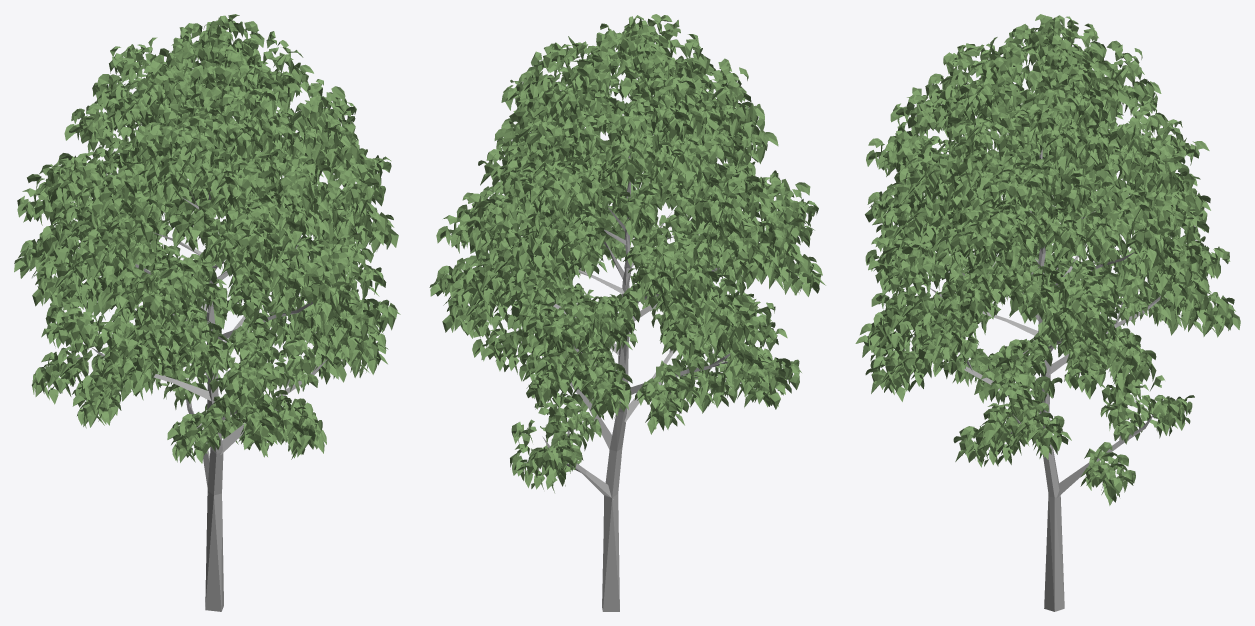
The model's file is birch_tree.glb.
The picture shows the model from 3 angles, left to right: view 1: azimuth 30°, elevation 25°; view 2: azimuth 150°, elevation 25°; view 3: azimuth 270°, elevation 25°; orthographic projection. The views are drawn at different scales.
Visible parts, largest first — view 1: Tree.Birch; view 2: Tree.Birch; view 3: Tree.Birch.
Part boxes in pixels (left/top/right/bottom): Tree.Birch: left=14, top=14, right=400, bottom=611; Tree.Birch: left=429, top=14, right=825, bottom=611; Tree.Birch: left=855, top=14, right=1240, bottom=611.
Bounding box in the file's own units: 2.39 × 3.92 × 2.37.
